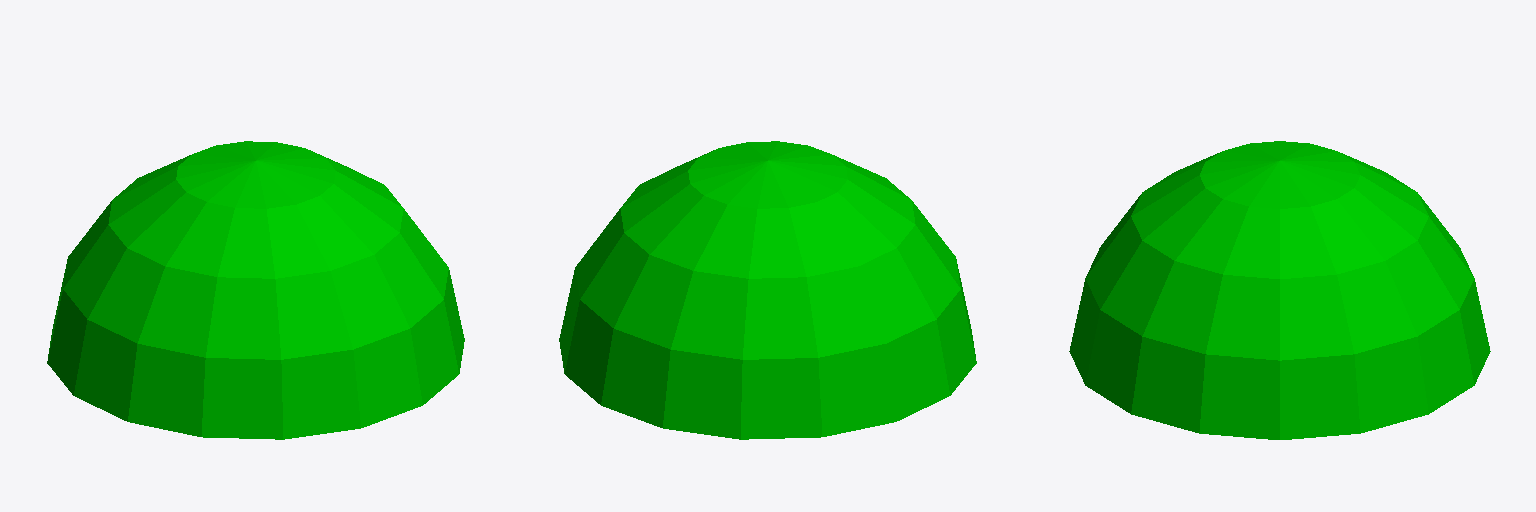
The model's file is ParameterUI_Ernergy.obj.
The picture shows the model from 3 angles: view 1: azimuth 30°, elevation 25°; view 2: azimuth 150°, elevation 25°; view 3: azimuth 270°, elevation 25°; orthographic projection.
Visible parts, largest first — view 1: Sphere; view 2: Sphere; view 3: Sphere.
Boxes of the visible parts, box(x1,y1,x2,y2) form: Sphere: box(47, 141, 464, 439); Sphere: box(559, 141, 976, 439); Sphere: box(1069, 141, 1490, 439).
Bounding box in the file's own units: 0.5 × 0.25 × 0.5.